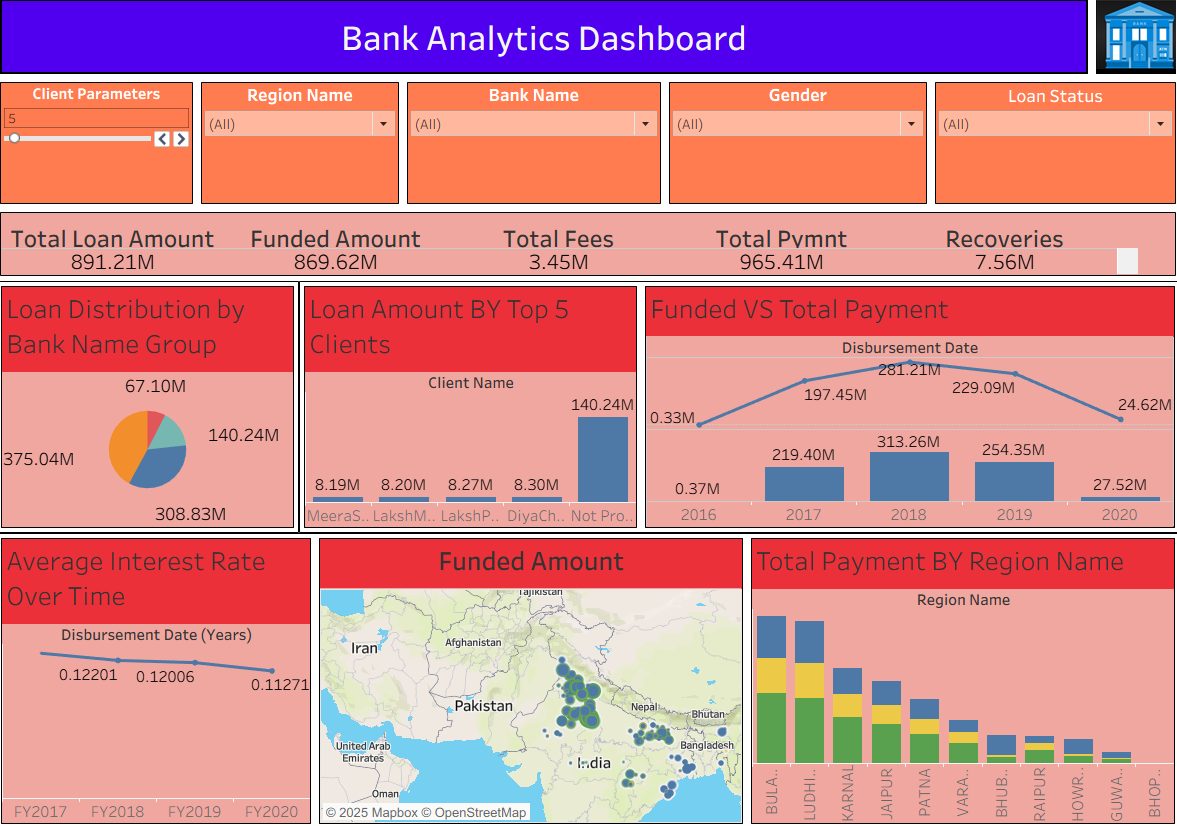

This screenshot's page, from the dashboard's own definition file:
{"tool":"tableau","page":{"name":"Dashboard 3","canvas":[1200,850],"ordinal":0},"visuals":[{"type":"text","box":[8,8,1096,83]},{"type":"image","param":"Image/Screenshot 2025-11-10 120714.png","box":[1104,8,88,83]},{"type":"parameter","param":"[Parameters].[Parameter 1]","box":[8,91,201,130]},{"type":"filter","title":"Loan Distribution by Bank Name Group","param":"[federated.1b5d7ry0kl1slj10u7ukr106kvbv].[none:Region Name:nk]","box":[209,91,206,130]},{"type":"filter","title":"Loan Distribution by Bank Name Group","param":"[federated.1b5d7ry0kl1slj10u7ukr106kvbv].[Bank Name (group)]","box":[415,91,262,130]},{"type":"filter","title":"Loan Distribution by Bank Name Group","param":"[federated.1b5d7ry0kl1slj10u7ukr106kvbv].[none:Gender ID:nk]","box":[677,91,266,130]},{"type":"filter","title":"Loan Distribution by Bank Name Group","param":"[federated.1b5d7ry0kl1slj10u7ukr106kvbv].[none:Loan Status:nk]","box":[943,91,249,130]},{"type":"worksheet","title":"KPI's","mark":"Automatic","box":[8,221,1184,72]},{"type":"worksheet","title":"Loan Distribution by Bank Name Group","mark":"Pie","box":[9,295,301,250]},{"type":"worksheet","title":"Loan Amount BY Top 5 Clients ","mark":"Automatic","rows":["Loan Amount"],"cols":["Client Name"],"box":[312,295,341,250]},{"type":"worksheet","title":"Funded VS Total Payment","mark":"Line","rows":["Funded Amount","Total Pymnt"],"cols":["Disbursement Date"],"box":[653,295,538,250]},{"type":"worksheet","title":"Average Interest Rate Over Time","mark":"Line","rows":["Int Rate"],"cols":["Disbursement Date (Years)"],"box":[9,547,318,294]},{"type":"worksheet","title":"Map","mark":"Automatic","box":[327,547,432,294]},{"type":"worksheet","title":"Total Payment BY Region Name","mark":"Automatic","rows":["Funded Amount"],"cols":["Region Name"],"box":[759,547,432,294]}]}

Visuals, with their boxes in screenshot pixels (x1, y1, x2, y2), scaled from the page's 1200x850 canvas onto the 1177x826 screenshot:
text: (8,8,1083,88)
image: (1083,8,1169,88)
parameter: (8,88,205,215)
"Loan Distribution by Bank Name Group" filter: (205,88,407,215)
"Loan Distribution by Bank Name Group" filter: (407,88,664,215)
"Loan Distribution by Bank Name Group" filter: (664,88,925,215)
"Loan Distribution by Bank Name Group" filter: (925,88,1169,215)
"KPI's" worksheet: (8,215,1169,285)
"Loan Distribution by Bank Name Group" worksheet (Pie marks): (9,287,304,530)
"Loan Amount BY Top 5 Clients " worksheet: (306,287,640,530)
"Funded VS Total Payment" worksheet (Line marks): (640,287,1168,530)
"Average Interest Rate Over Time" worksheet (Line marks): (9,532,321,817)
"Map" worksheet: (321,532,744,817)
"Total Payment BY Region Name" worksheet: (744,532,1168,817)
